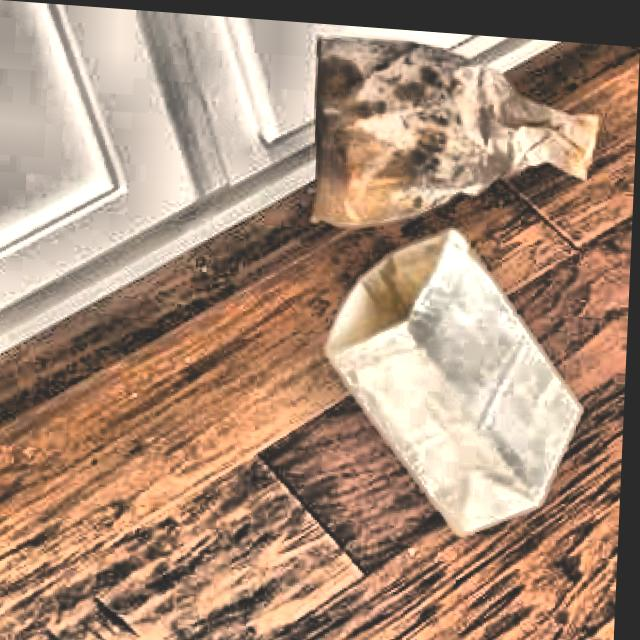Paper-bag: (305, 212, 594, 542), (302, 26, 611, 240)
